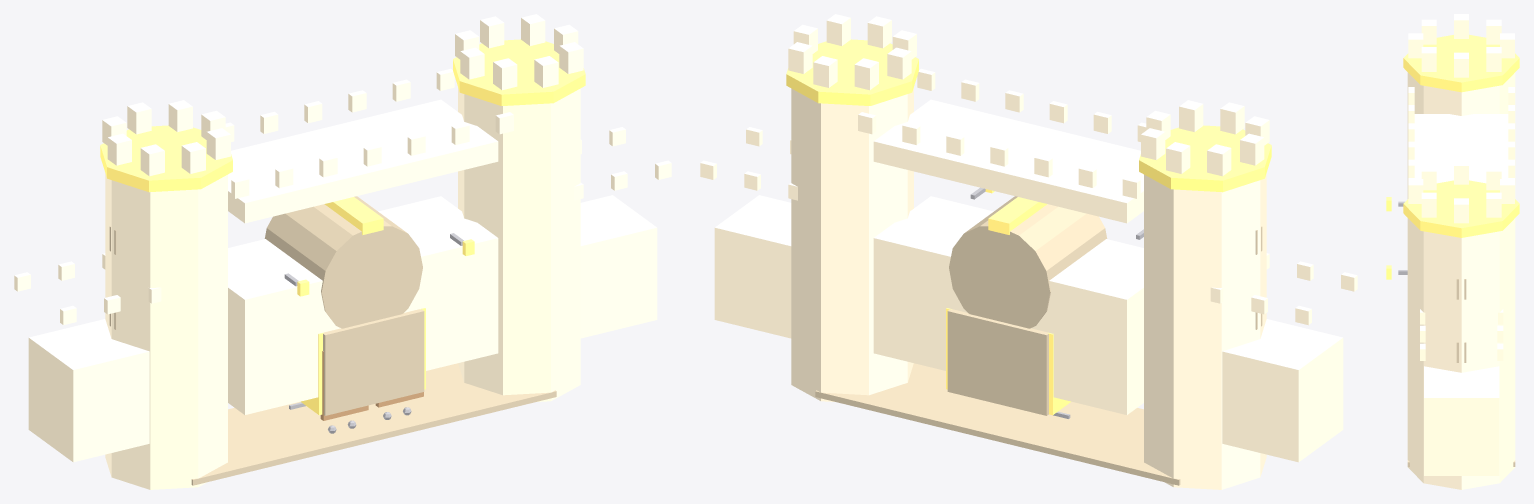
Rendered from Gate.glb.
The picture shows the model from 3 angles, left to right: view 1: azimuth 30°, elevation 25°; view 2: azimuth 150°, elevation 25°; view 3: azimuth 270°, elevation 25°; orthographic projection. The views are drawn at different scales.
Parts seen in each view (by area): view 1: Tower_L, Tower_R, ArchWall, Walkway, Wing_L, Foundation, ArchCrown, Wing_R, ArchOpening, TowerCap_R, TowerCap_L, Keystone (+12 smaller); view 2: Tower_L, Tower_R, ArchWall, Walkway, Wing_L, Foundation, ArchCrown, Wing_R, ArchOpening, TowerCap_R, TowerCap_L, Keystone (+12 smaller); view 3: Tower_R, Wing_R, Walkway, TowerCap_R, TowerCap_L, Tower_L, TowerCren_R_1, TowerCren_R_7, TowerCren_L_1, TowerCren_L_7, TowerCren_L_3, TowerCren_L_5 (+10 smaller).
Boxes of the visible parts, bbox=[...] form: Tower_L: bbox=[105, 173, 227, 489]; Tower_R: bbox=[458, 87, 580, 401]; ArchWall: bbox=[228, 196, 498, 414]; Walkway: bbox=[228, 99, 498, 223]; Wing_L: bbox=[28, 319, 149, 462]; Foundation: bbox=[191, 363, 556, 485]; ArchCrown: bbox=[264, 196, 422, 328]; Wing_R: bbox=[580, 195, 657, 338]; ArchOpening: bbox=[323, 309, 424, 415]; TowerCap_R: bbox=[453, 39, 585, 105]; TowerCap_L: bbox=[100, 125, 232, 192]; Keystone: bbox=[324, 197, 383, 234]; Tower_L: bbox=[1144, 173, 1266, 489]; Tower_R: bbox=[791, 87, 913, 401]; ArchWall: bbox=[873, 196, 1143, 414]; Walkway: bbox=[873, 99, 1143, 223]; Wing_L: bbox=[1222, 319, 1343, 462]; Foundation: bbox=[815, 363, 1180, 485]; ArchCrown: bbox=[949, 196, 1107, 328]; Wing_R: bbox=[714, 195, 791, 338]; ArchOpening: bbox=[947, 309, 1048, 415]; TowerCap_R: bbox=[786, 39, 918, 105]; TowerCap_L: bbox=[1139, 125, 1271, 192]; Keystone: bbox=[988, 197, 1047, 234]; Tower_R: bbox=[1407, 218, 1515, 489]; Wing_R: bbox=[1424, 366, 1499, 475]; Walkway: bbox=[1414, 114, 1508, 183]; TowerCap_R: bbox=[1403, 180, 1519, 237]; TowerCap_L: bbox=[1403, 34, 1519, 92]; Tower_L: bbox=[1407, 72, 1515, 198]; TowerCren_R_1: bbox=[1486, 192, 1501, 217]; TowerCren_R_7: bbox=[1421, 192, 1436, 217]; TowerCren_L_1: bbox=[1486, 47, 1501, 71]; TowerCren_L_7: bbox=[1421, 47, 1436, 71]; TowerCren_L_3: bbox=[1486, 19, 1501, 44]; TowerCren_L_5: bbox=[1421, 19, 1436, 44].
Size of the model in its own units: 11.04 by 5.84 by 2.48.
